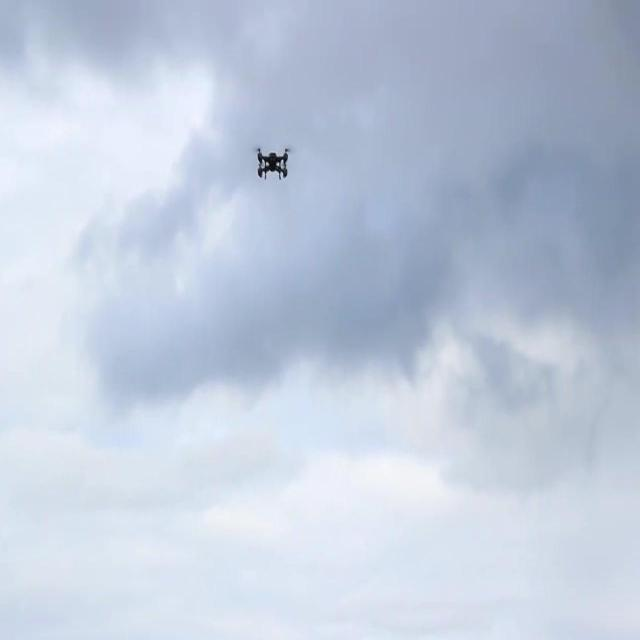drone: (254, 144, 291, 182)
